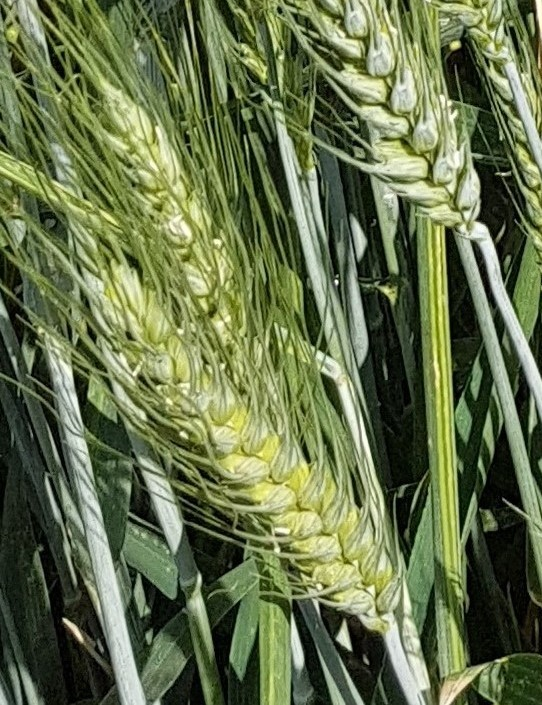Healthy Wheat: (58, 261, 422, 621)
